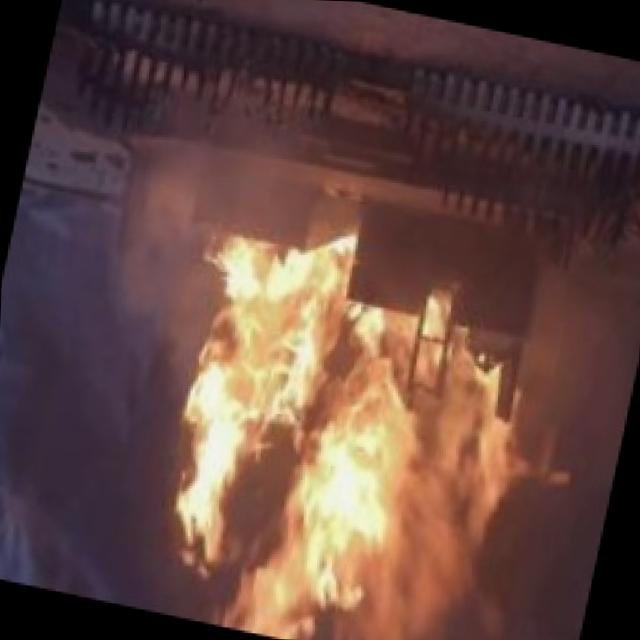fire: (109, 198, 594, 640)
